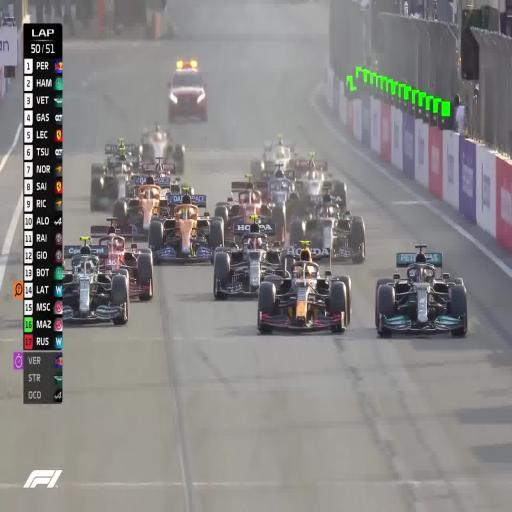f1_car: (375, 244, 467, 336), (257, 247, 351, 332), (214, 216, 286, 298), (62, 237, 129, 324), (148, 190, 224, 262), (290, 192, 365, 263), (90, 218, 154, 301), (214, 174, 285, 244), (113, 176, 172, 240), (90, 138, 139, 210), (288, 156, 346, 203), (138, 124, 185, 174), (251, 134, 295, 179), (319, 248, 329, 256), (287, 248, 294, 254), (304, 241, 307, 243), (244, 225, 245, 227)
